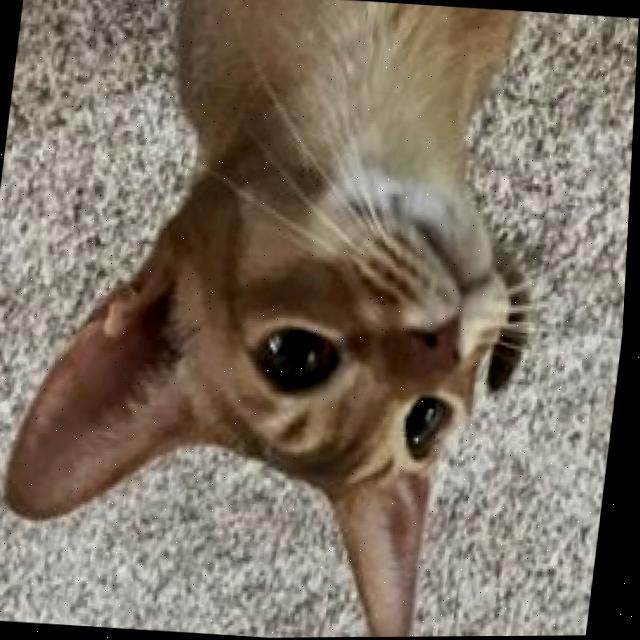Abyssinian: (0, 0, 562, 640)
